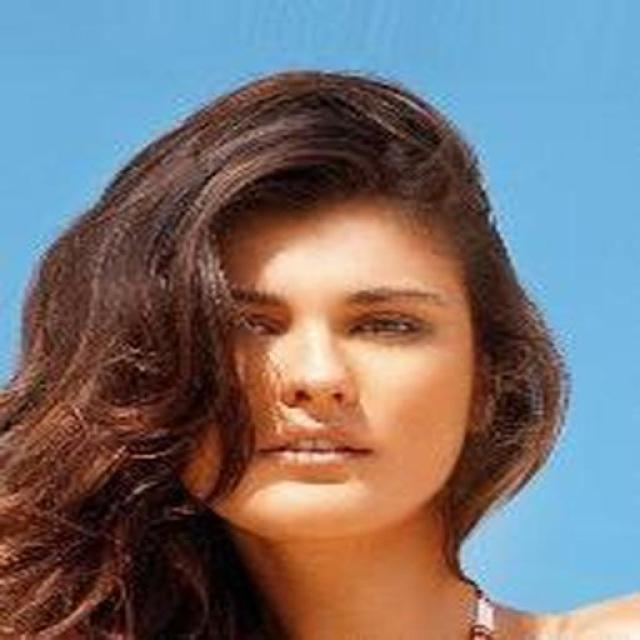bareface: (146, 173, 497, 548)
